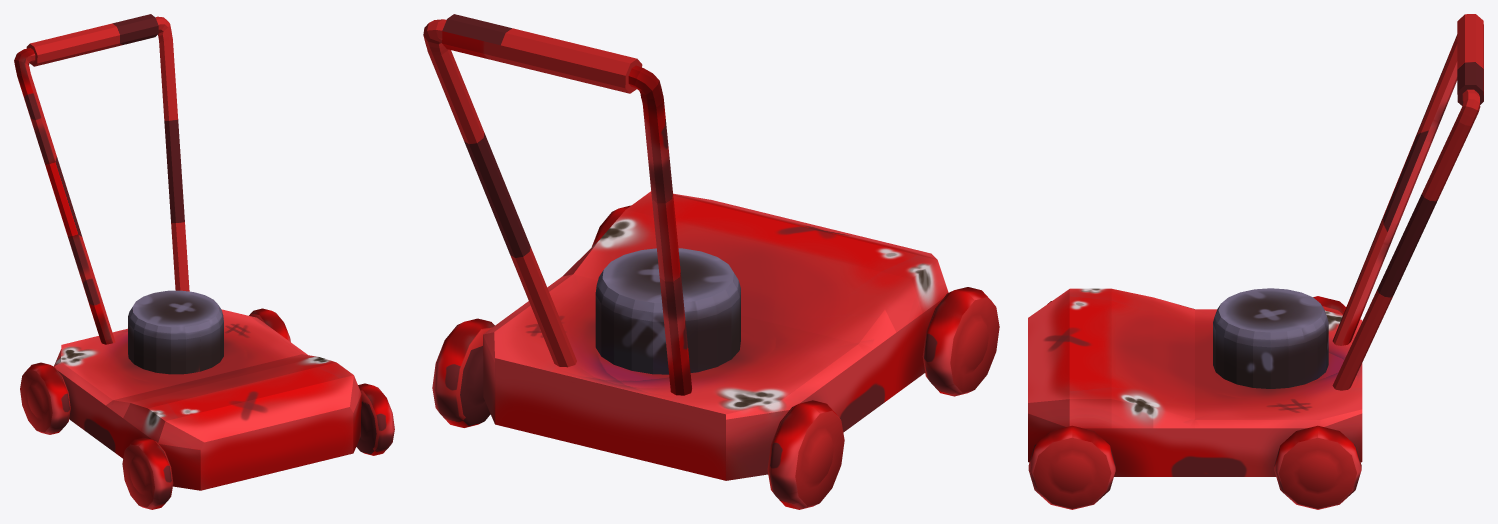
File: cortador.fbx
3 renders of one model, left to right at view 1: azimuth 30°, elevation 25°; view 2: azimuth 150°, elevation 25°; view 3: azimuth 270°, elevation 25°, orthographic. The views are drawn at different scales.
Parts seen in each view (by area): view 1: Cylinder, Cylinder.003, Cylinder.001; view 2: Cylinder, Cylinder.003, Cylinder.001; view 3: Cylinder, Cylinder.003, Cylinder.001.
Part boxes in pixels (x1,y1,x2,y2): Cylinder: (54, 290, 361, 490); Cylinder.003: (14, 14, 189, 344); Cylinder.001: (20, 308, 394, 509); Cylinder: (483, 191, 948, 480); Cylinder.003: (423, 14, 691, 395); Cylinder.001: (432, 205, 999, 509); Cylinder: (1028, 288, 1362, 476); Cylinder.003: (1332, 14, 1483, 390); Cylinder.001: (1028, 296, 1361, 509).
Size of the model in its own units: 454 by 588 by 618.
3 materials, 3 textured.
